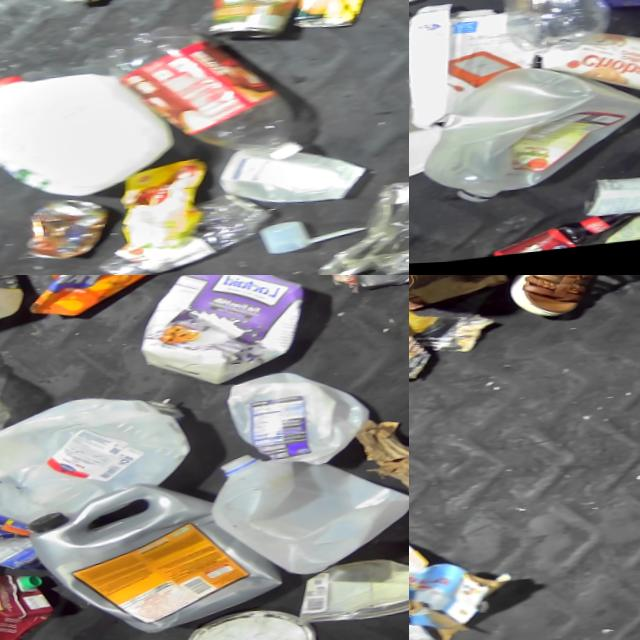can: (18, 193, 125, 271), (195, 0, 301, 50), (577, 176, 640, 225), (300, 0, 378, 37), (324, 275, 409, 292), (41, 0, 129, 15)
milk_jug: (412, 62, 640, 210), (204, 437, 409, 590), (0, 56, 185, 204), (0, 393, 184, 519), (221, 367, 370, 472)
non_white_jug: (13, 482, 285, 640), (165, 275, 295, 375), (0, 571, 64, 640)
plastic_bottle: (105, 19, 313, 180), (473, 0, 616, 58)
